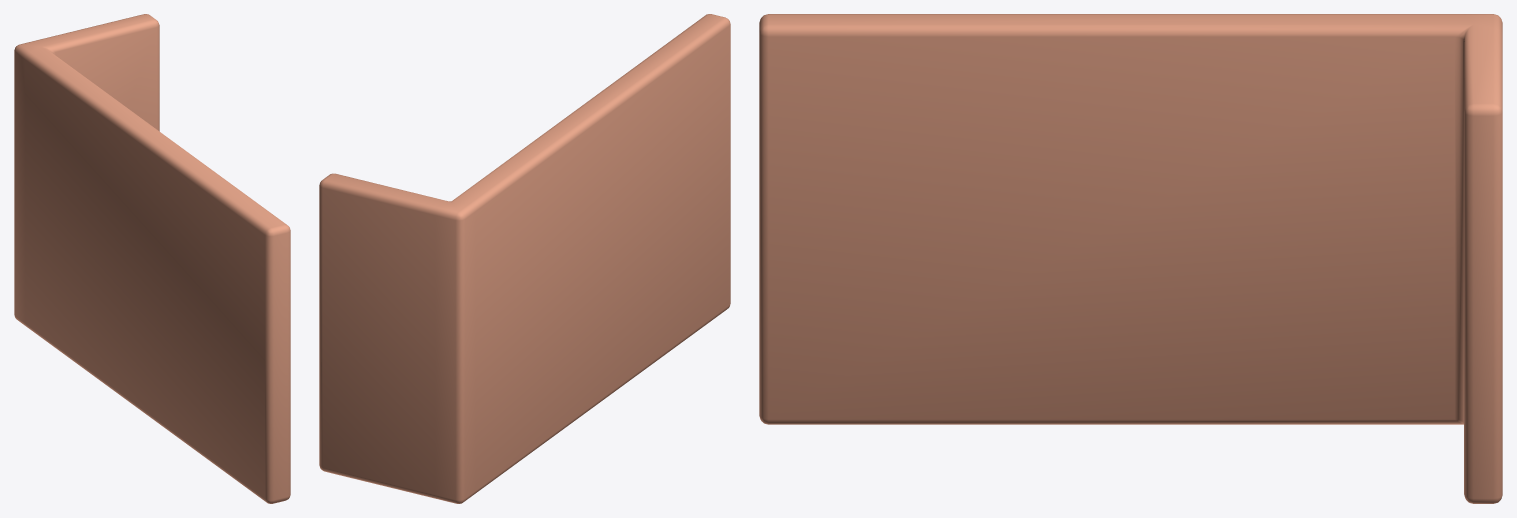
Rendered from block_corner_long.fbx.
3 renders of one model, left to right at view 1: azimuth 30°, elevation 25°; view 2: azimuth 150°, elevation 25°; view 3: azimuth 270°, elevation 25°, orthographic. The views are drawn at different scales.
Visible parts, largest first — view 1: block_corner_long; view 2: block_corner_long; view 3: block_corner_long.
Boxes of the visible parts, left/top/right/bottom form: block_corner_long: left=14, top=14, right=290, bottom=503; block_corner_long: left=319, top=14, right=730, bottom=503; block_corner_long: left=759, top=14, right=1502, bottom=503.
Bounding box in the file's own units: 363 × 700 × 1181.
